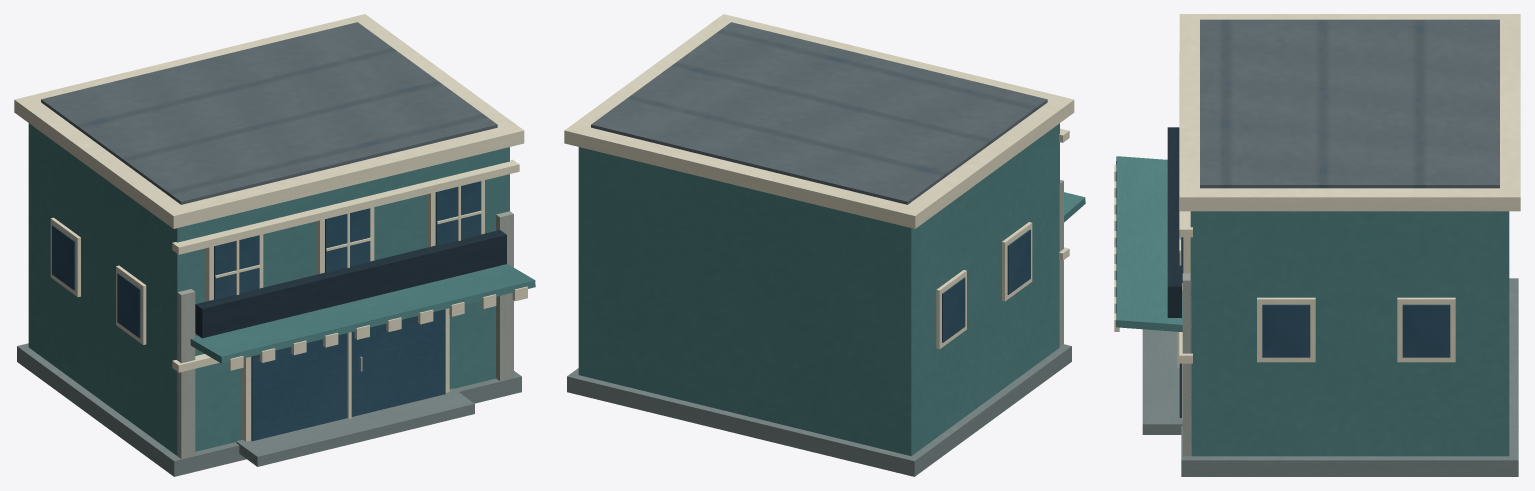
Rendered from corner-store-intact-lod.glb.
3 views of the same model, side by side, from view 1: azimuth 30°, elevation 25°; view 2: azimuth 150°, elevation 25°; view 3: azimuth 270°, elevation 25° (orthographic). The views are drawn at different scales.
Visible parts, largest first — view 1: corner-store-intact-lod; view 2: corner-store-intact-lod; view 3: corner-store-intact-lod.
Part boxes in pixels (left/top/right/bottom): corner-store-intact-lod: left=14, top=14, right=535, bottom=476; corner-store-intact-lod: left=564, top=14, right=1085, bottom=476; corner-store-intact-lod: left=1114, top=14, right=1520, bottom=476.
Size of the model in its own units: 6.54 by 4.72 by 6.12.
3 materials, 3 textured.
